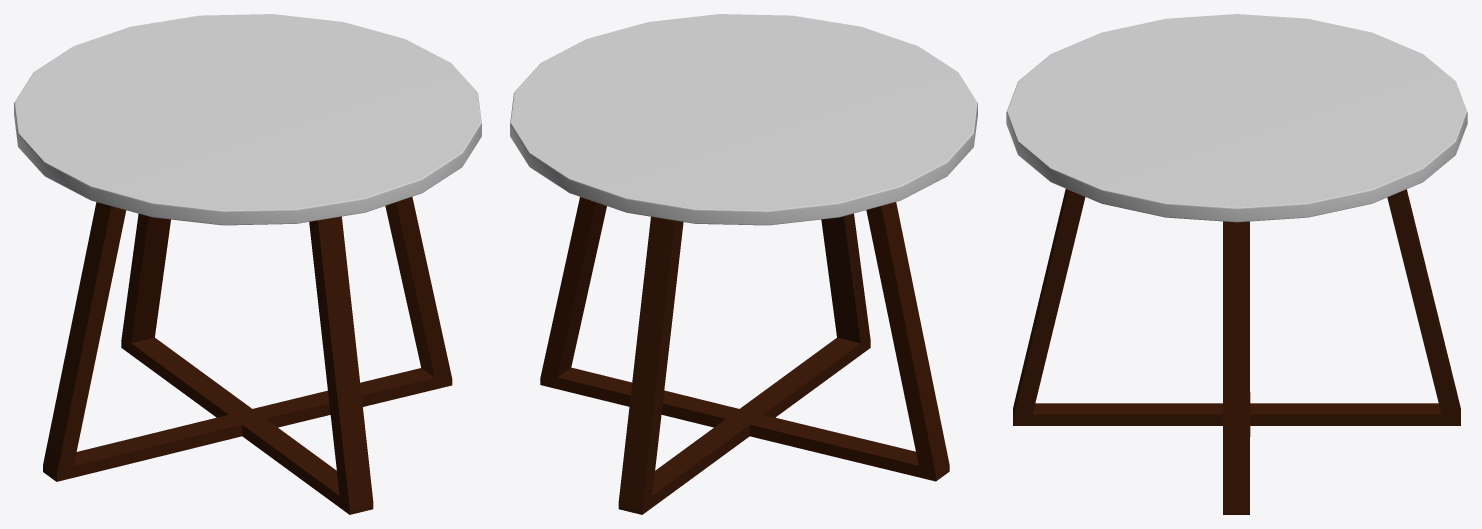
The model's file is table.fbx.
The picture shows the model from 3 angles, left to right: view 1: azimuth 30°, elevation 25°; view 2: azimuth 150°, elevation 25°; view 3: azimuth 270°, elevation 25°; orthographic projection. The views are drawn at different scales.
Visible parts, largest first — view 1: Table (×2); view 2: Table (×2); view 3: Table (×2).
Boxes of the visible parts, bbox=[...] form: Table (×2): bbox=[14, 14, 481, 514]; Table (×2): bbox=[510, 14, 977, 514]; Table (×2): bbox=[1006, 14, 1467, 514].
Size of the model in its own units: 1.03 by 0.7654 by 1.03.
